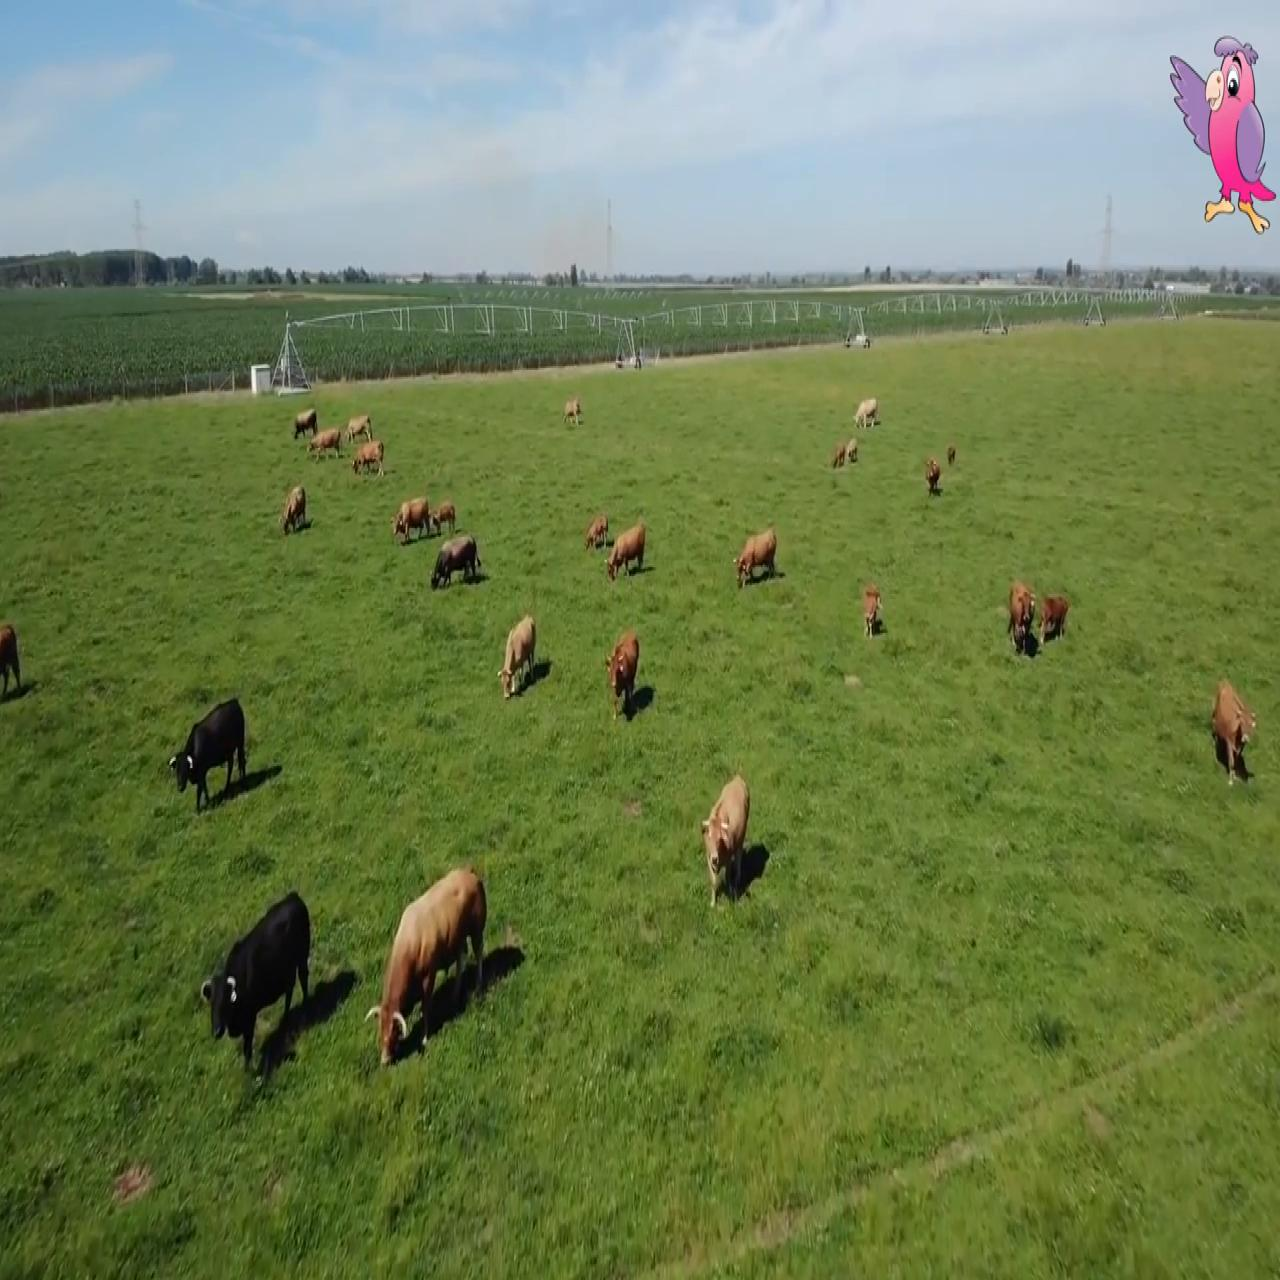cow: (369, 867, 486, 1067), (204, 888, 313, 1068), (168, 697, 247, 808), (704, 775, 750, 910), (1212, 682, 1254, 778), (812, 433, 873, 488), (1040, 579, 1081, 654), (499, 617, 536, 700), (857, 574, 894, 653), (430, 488, 468, 560), (350, 436, 397, 493), (433, 535, 483, 586), (607, 635, 640, 714), (390, 495, 431, 557), (731, 531, 777, 585), (574, 501, 615, 557), (851, 382, 896, 431), (306, 420, 347, 472), (278, 478, 314, 535), (608, 526, 649, 576), (342, 407, 376, 461), (1008, 581, 1036, 646), (924, 459, 947, 508), (290, 406, 321, 435)
